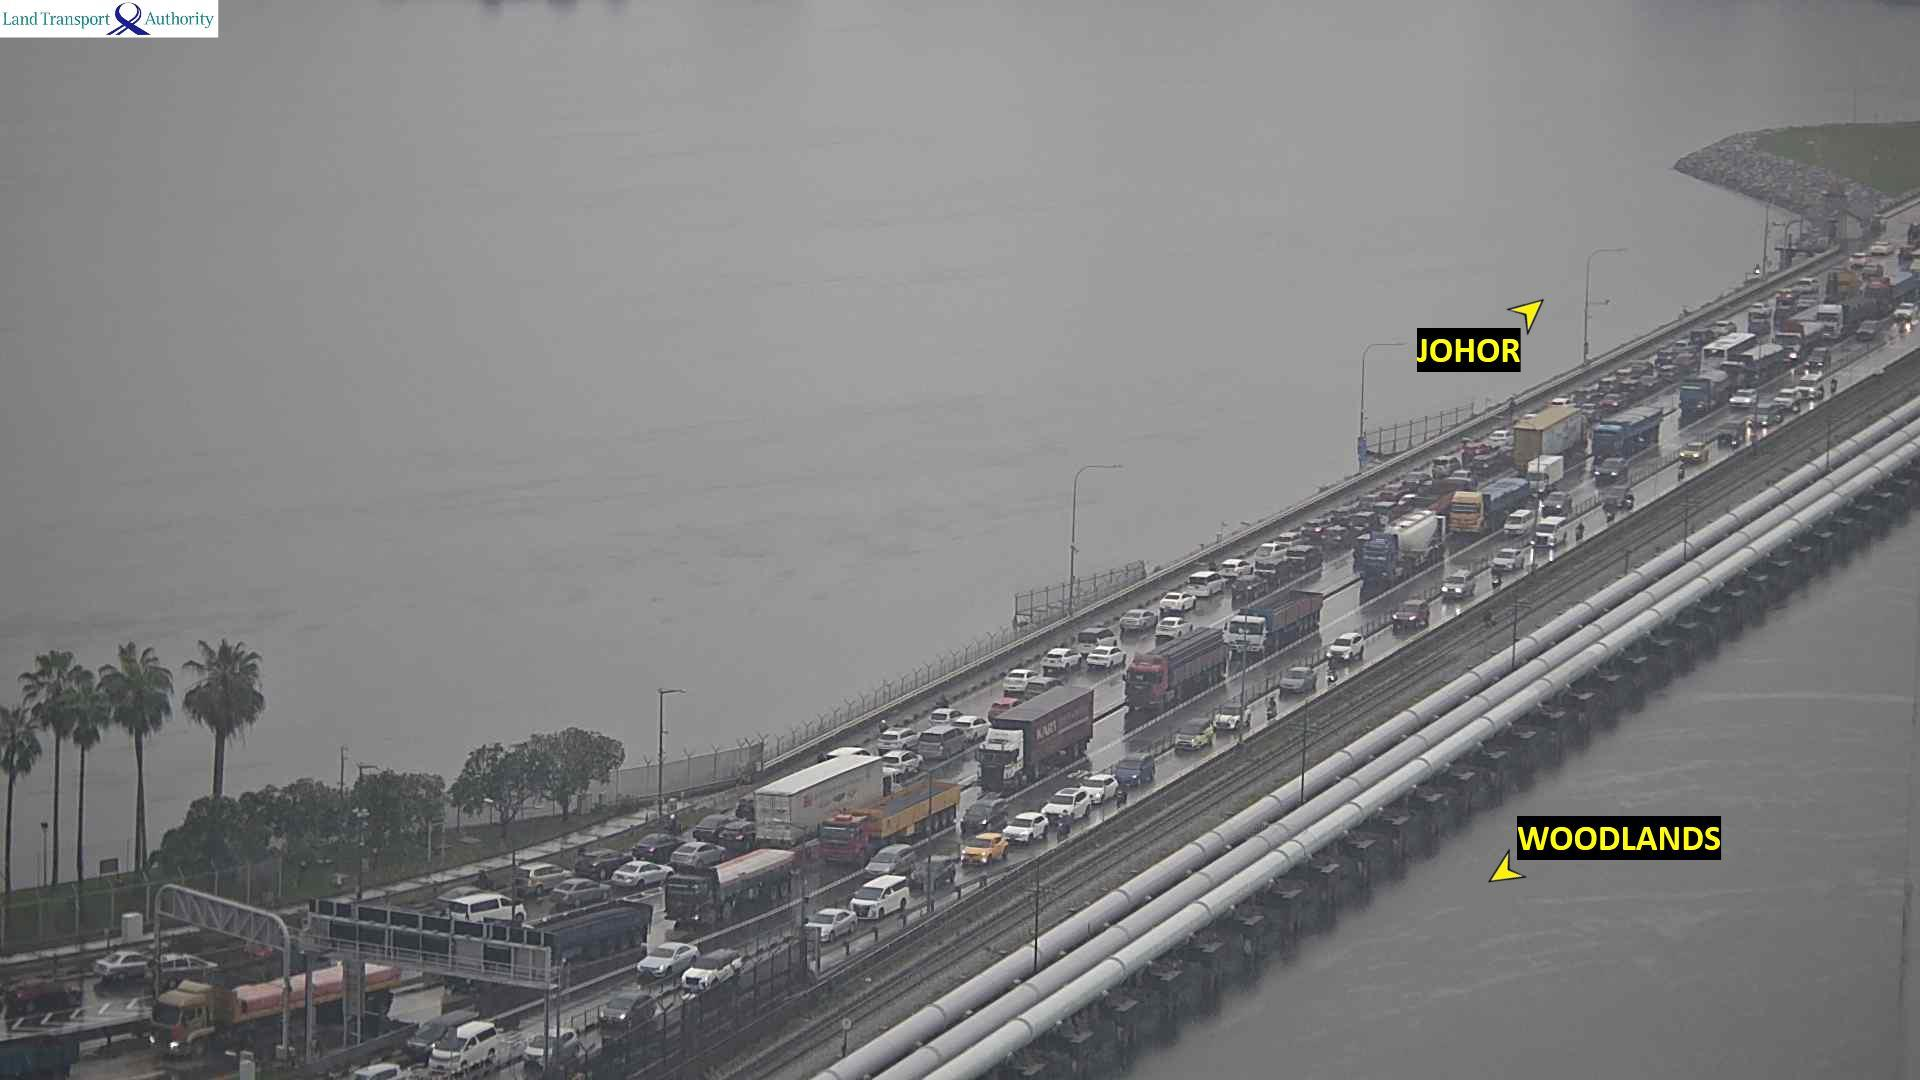vehicle-causeway-johor: (756, 757, 882, 842), (1701, 334, 1756, 363), (518, 863, 572, 891), (613, 863, 672, 887), (552, 880, 610, 902), (918, 729, 961, 758), (575, 851, 629, 874), (442, 893, 517, 909), (96, 958, 146, 980), (633, 835, 683, 857), (439, 899, 510, 914), (1038, 649, 1086, 671), (1082, 649, 1128, 670), (694, 814, 736, 837), (671, 844, 724, 862), (1005, 673, 1059, 690), (720, 821, 752, 847), (1080, 628, 1115, 651), (882, 752, 922, 772), (1153, 616, 1190, 637), (1123, 612, 1161, 632), (873, 729, 918, 745), (1159, 591, 1195, 611), (1186, 573, 1221, 593), (1288, 547, 1319, 569), (1232, 576, 1263, 597), (959, 715, 990, 736), (1255, 560, 1286, 579), (826, 748, 868, 762), (1616, 361, 1652, 377), (1229, 579, 1270, 593), (1431, 456, 1459, 475), (932, 710, 965, 725), (1751, 308, 1770, 331), (1474, 456, 1501, 472), (1220, 560, 1248, 575), (1256, 542, 1284, 557), (1371, 503, 1393, 522), (1324, 528, 1348, 545), (1490, 430, 1512, 446), (1279, 532, 1301, 547), (737, 793, 755, 811), (1690, 328, 1711, 343), (1797, 279, 1819, 293), (1776, 287, 1795, 303), (1302, 520, 1322, 535), (1407, 472, 1428, 486), (1579, 404, 1600, 418), (1661, 365, 1678, 382), (1600, 395, 1624, 407), (1715, 320, 1738, 332), (1848, 254, 1869, 267), (1863, 263, 1884, 274), (1871, 240, 1894, 250), (1599, 379, 1617, 390), (1550, 398, 1572, 406), (936, 696, 947, 706), (1208, 561, 1213, 571)
vehicle-causeway-singapore: (147, 953, 394, 1035), (470, 907, 644, 975), (821, 782, 959, 858), (983, 697, 1100, 778), (663, 848, 795, 919), (0, 1024, 146, 1080), (1125, 635, 1225, 703), (1355, 514, 1449, 576), (1441, 480, 1545, 532), (1228, 593, 1323, 648), (401, 1011, 495, 1057), (0, 980, 84, 1024), (1587, 409, 1662, 456), (424, 1037, 513, 1076), (1680, 364, 1740, 415), (1820, 297, 1885, 334), (847, 877, 911, 912), (683, 954, 748, 987), (523, 1030, 576, 1067), (636, 944, 695, 976), (599, 994, 655, 1027), (1006, 812, 1059, 843), (960, 799, 1007, 833), (1045, 785, 1102, 812), (804, 906, 857, 935), (909, 859, 963, 887), (1780, 312, 1814, 355), (957, 833, 1006, 862), (866, 846, 917, 873), (1529, 455, 1566, 491), (1174, 718, 1213, 752), (1116, 755, 1154, 786), (1441, 569, 1475, 599), (1532, 517, 1567, 545), (1277, 671, 1318, 693), (354, 1061, 401, 1080), (1594, 458, 1628, 484), (1327, 642, 1366, 663), (1487, 549, 1529, 568), (1802, 346, 1833, 371), (1215, 712, 1252, 731), (1675, 447, 1713, 465), (1390, 606, 1429, 623), (1800, 373, 1825, 399), (1085, 775, 1113, 798), (1542, 492, 1570, 514), (1600, 489, 1636, 506), (1717, 419, 1743, 442), (1725, 395, 1761, 410), (1893, 301, 1920, 321), (1775, 389, 1799, 411), (1853, 319, 1879, 338), (1262, 695, 1279, 718), (1059, 810, 1072, 837), (1575, 523, 1586, 542), (1828, 375, 1839, 393), (1118, 790, 1128, 807), (1676, 464, 1685, 482), (1606, 505, 1613, 523)
